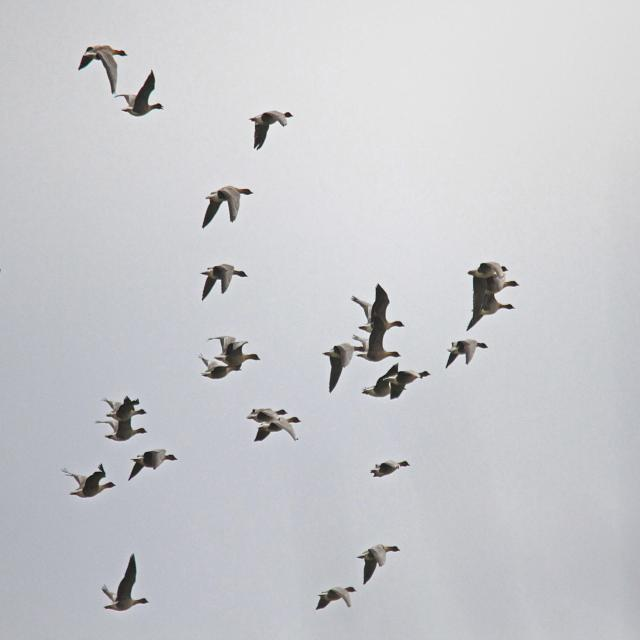bird: (101, 553, 154, 615), (348, 282, 402, 334), (200, 334, 262, 378), (362, 362, 430, 402), (78, 46, 131, 94), (202, 185, 254, 231), (116, 70, 163, 119), (245, 404, 302, 444), (200, 262, 251, 306), (467, 287, 516, 332), (247, 111, 297, 152), (356, 542, 402, 586), (318, 343, 358, 392), (465, 262, 519, 298), (130, 448, 180, 485), (350, 328, 402, 363), (64, 464, 115, 499), (444, 337, 490, 369), (366, 457, 411, 484), (315, 587, 356, 616), (98, 393, 144, 416), (99, 421, 150, 440)
